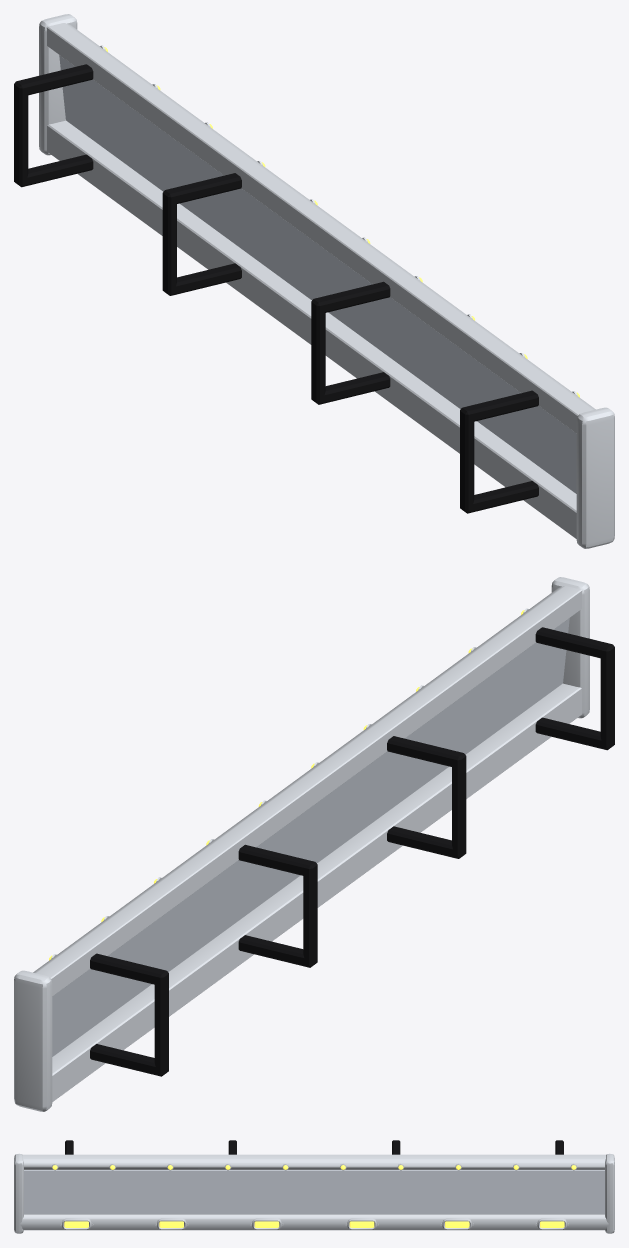
Rendered from side_bumper_dx.glb.
3 views of the same model, one above another, from view 1: azimuth 30°, elevation 25°; view 2: azimuth 150°, elevation 25°; view 3: azimuth 270°, elevation 25° (orthographic). The views are drawn at different scales.
Parts seen in each view (by area): view 1: chrome, steel_uroko, plastic_black; view 2: chrome, steel_uroko, plastic_black; view 3: steel_uroko, chrome, lamp_amber, plastic_black.
Boxes of the visible parts, x1,y1,x2,y2 form: chrome: [39, 14, 614, 548]; steel_uroko: [59, 55, 576, 493]; plastic_black: [14, 64, 538, 513]; chrome: [14, 577, 589, 1111]; steel_uroko: [52, 618, 569, 1056]; plastic_black: [90, 627, 614, 1076]; steel_uroko: [24, 1170, 604, 1214]; chrome: [14, 1153, 614, 1233]; lamp_amber: [52, 1165, 576, 1227]; plastic_black: [65, 1140, 563, 1154].
Bounding box in the file's own units: 0.4676 × 0.56 × 4.17.
